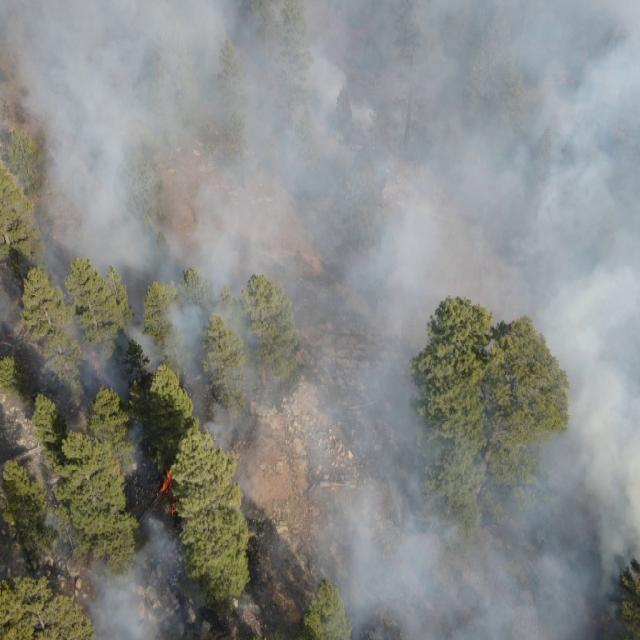fire: (74, 345, 110, 391), (158, 466, 184, 520), (0, 330, 19, 350)
smoke: (0, 0, 640, 640)
